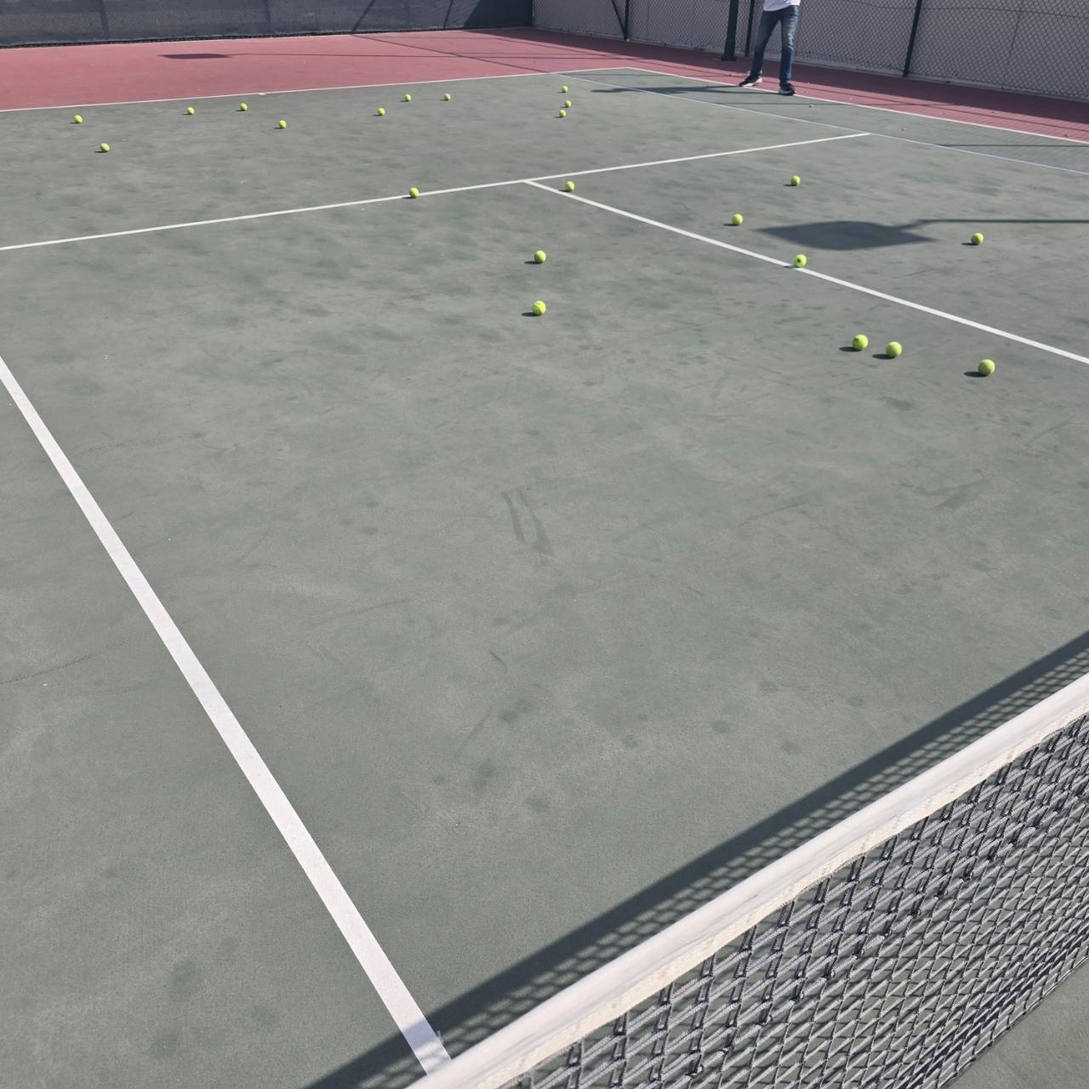tennis-ball: (977, 356, 995, 375), (884, 339, 902, 357), (851, 332, 868, 350), (531, 298, 546, 315), (969, 230, 984, 245), (793, 251, 807, 266), (730, 211, 744, 225), (533, 248, 546, 262), (408, 186, 419, 197), (565, 181, 575, 192), (790, 176, 800, 186), (101, 143, 110, 152), (74, 115, 83, 123), (559, 110, 567, 118), (279, 120, 287, 128), (240, 103, 248, 111), (564, 100, 572, 107), (561, 86, 569, 93), (378, 108, 385, 116), (187, 107, 194, 114), (444, 93, 450, 100), (405, 94, 411, 101)
